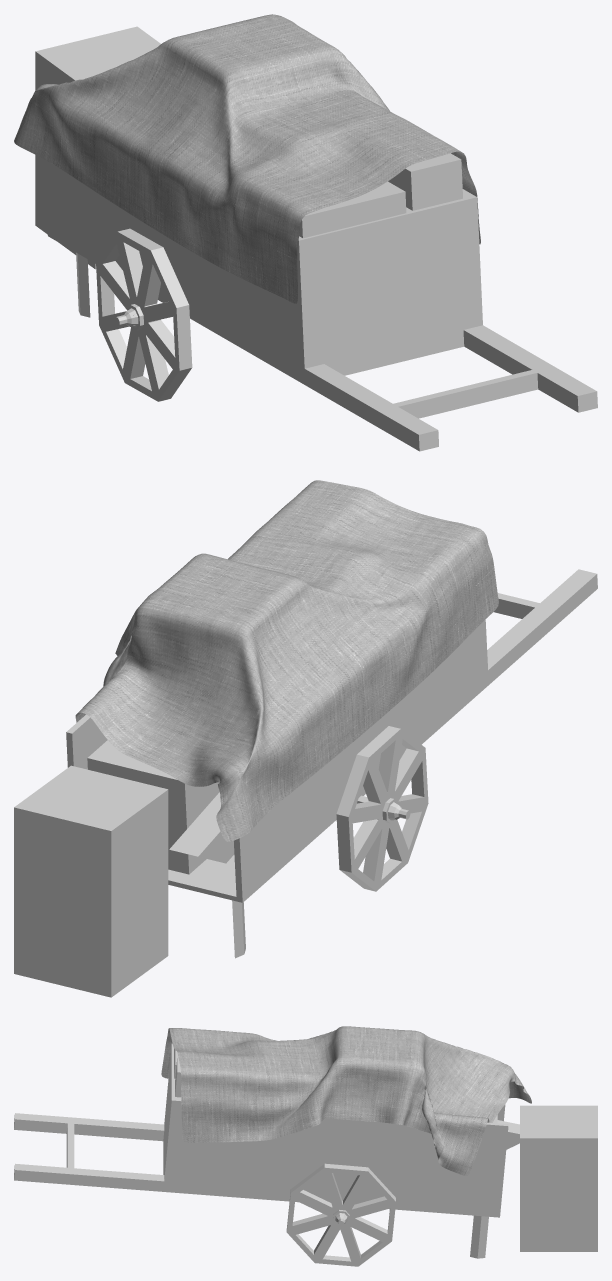
File: รถเข็น.fbx
3 renders of one model, top to bottom at view 1: azimuth 30°, elevation 25°; view 2: azimuth 150°, elevation 25°; view 3: azimuth 270°, elevation 25°, orthographic. The views are drawn at different scales.
Parts seen in each view (by area): view 1: Plane.001, Cube, Cylinder.001, Cube.009, Cube.002, Cube.003; view 2: Plane.001, Cube.009, Cube, Cylinder.001, Cube.010, Cube.008; view 3: Plane.001, Cube, Cube.009, Cylinder.001, Cube.008.
Boxes of the visible parts, box(x1,y1,x2,y2) form: Plane.001: box(14, 14, 480, 303); Cube: box(44, 160, 597, 451); Cylinder.001: box(96, 228, 192, 401); Cube.009: box(35, 26, 160, 269); Cube.002: box(299, 181, 406, 238); Cube.003: box(388, 153, 462, 210); Plane.001: box(75, 480, 498, 841); Cube.009: box(14, 765, 168, 997); Cube: box(66, 569, 597, 958); Cylinder.001: box(336, 726, 428, 891); Cube.010: box(87, 740, 219, 874); Cube.008: box(169, 792, 234, 863); Plane.001: box(161, 1026, 531, 1175); Cube: box(14, 1043, 508, 1258); Cube.009: box(520, 1105, 597, 1251); Cylinder.001: box(286, 1163, 395, 1266); Cube.008: box(497, 1120, 519, 1149).
Size of the model in its own units: 135 by 141 by 371.
